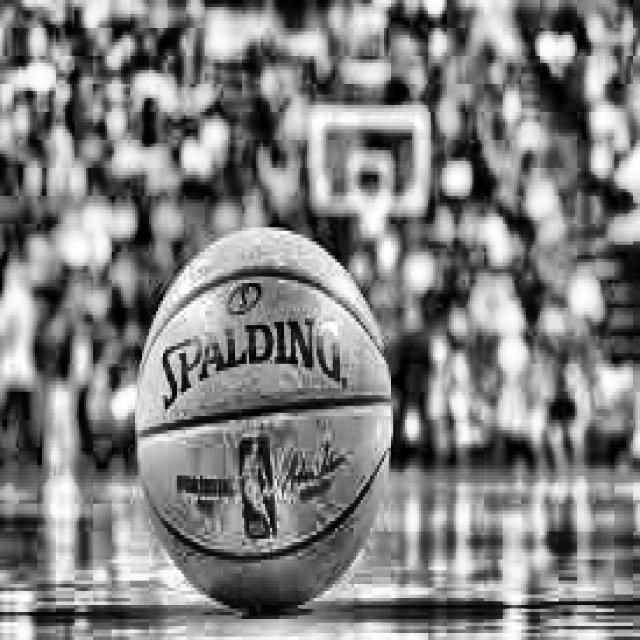Basketball: (137, 231, 393, 609)
